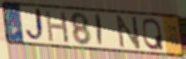8: (70, 11, 94, 46)
H: (44, 9, 71, 45)
I: (95, 12, 104, 48)
J: (24, 7, 46, 44)
N: (115, 14, 142, 50)
Q: (141, 16, 165, 52)
